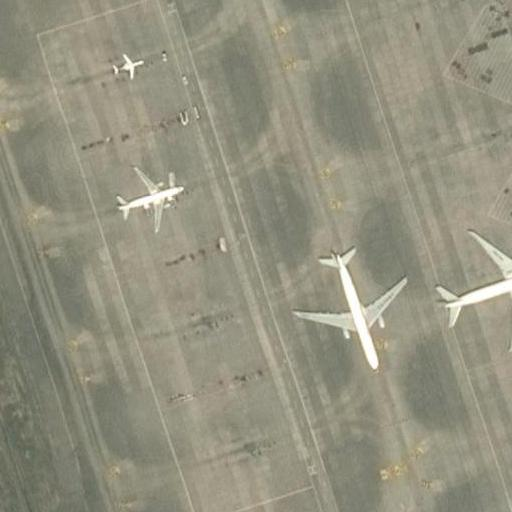Aircraft: (293, 244, 412, 370), (435, 227, 512, 346), (107, 167, 192, 236), (105, 50, 148, 88)
